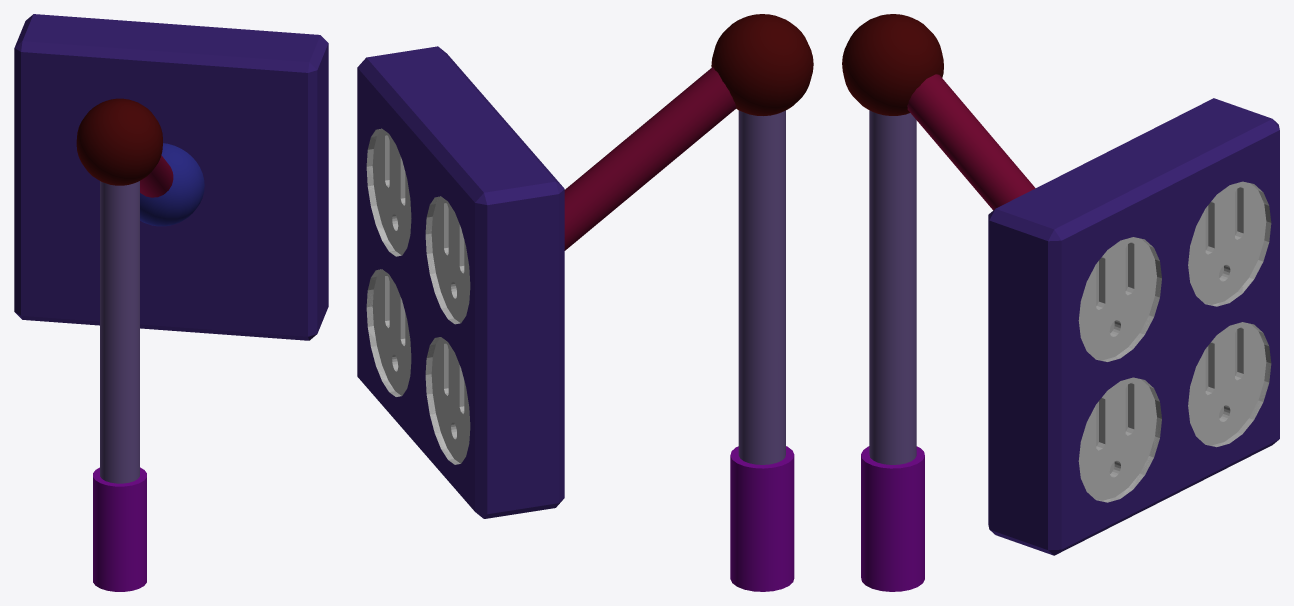
File: Cannon_Turret.fbx
3 views of the same model, side by side, from view 1: azimuth 30°, elevation 25°; view 2: azimuth 150°, elevation 25°; view 3: azimuth 270°, elevation 25° (orthographic). The views are drawn at different scales.
Visible parts, largest first — view 1: Cannon, Cannon_Arm_; view 2: Cannon, Cannon_Arm_; view 3: Cannon, Cannon_Arm_.
Boxes of the visible parts, x1,y1,x2,y2 form: Cannon: (14, 14, 328, 340); Cannon_Arm_: (76, 98, 204, 591); Cannon: (357, 46, 564, 518); Cannon_Arm_: (564, 14, 813, 591); Cannon: (988, 98, 1279, 555); Cannon_Arm_: (842, 14, 1035, 591).
Bounding box in the file's own units: 1.17 × 1.71 × 1.22.
